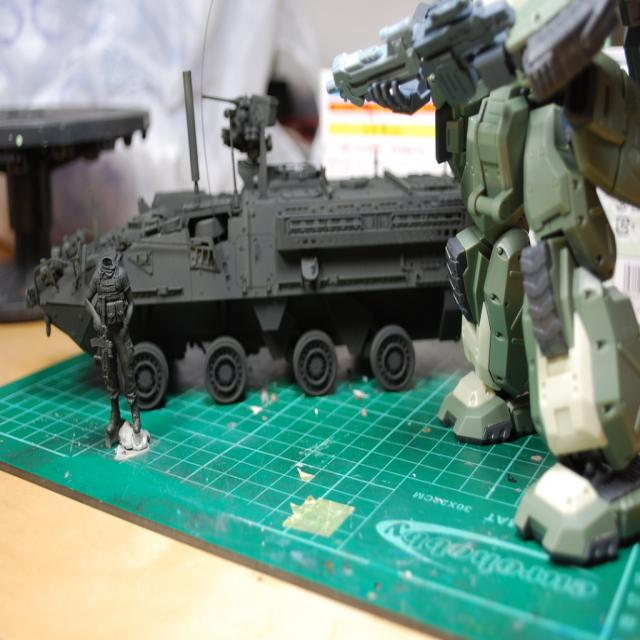tank: (21, 92, 464, 413)
